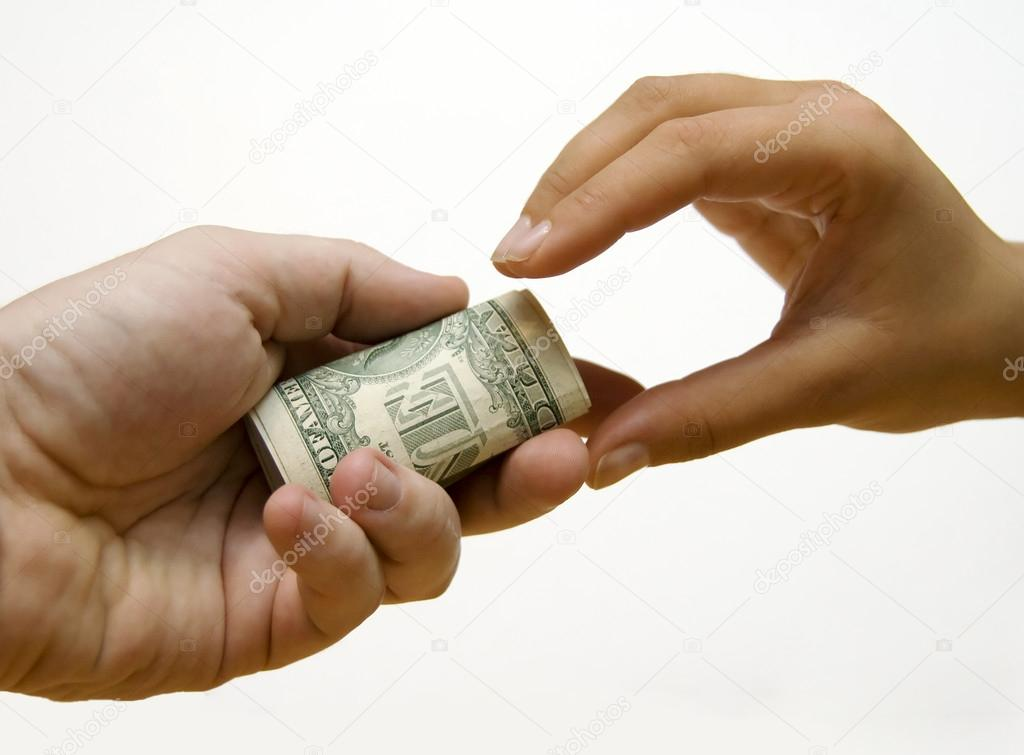billete: (243, 285, 597, 520)
